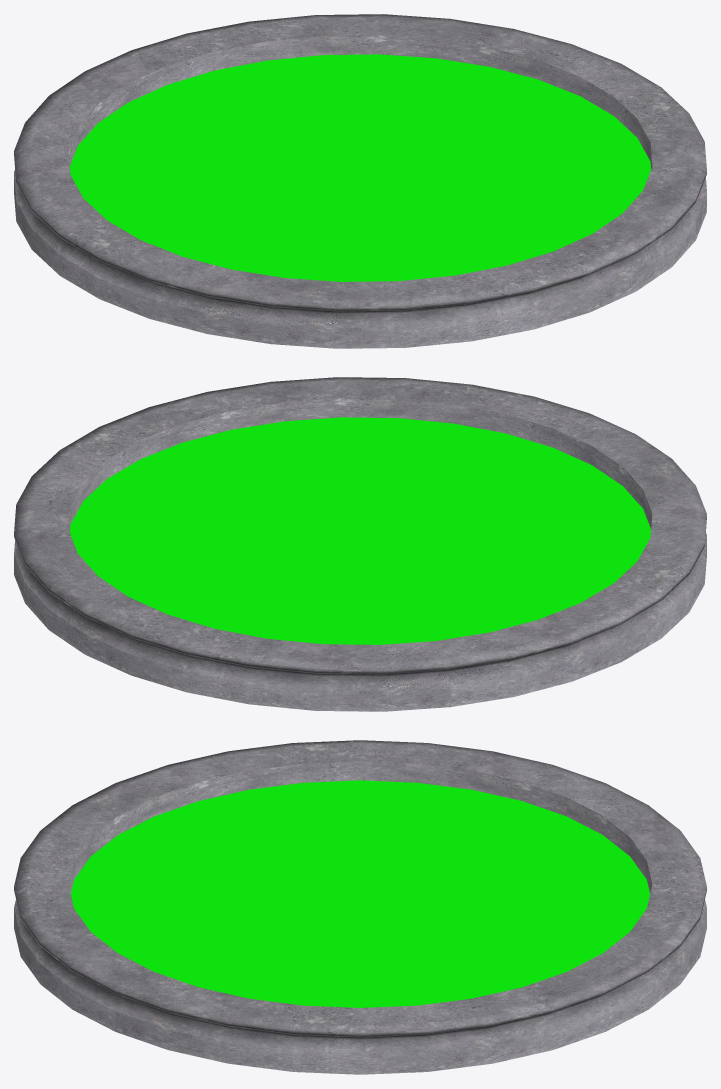
File: WarpGateblend.gltf
The picture shows the model from 3 angles, top to bottom: view 1: azimuth 30°, elevation 25°; view 2: azimuth 150°, elevation 25°; view 3: azimuth 270°, elevation 25°; orthographic projection.
Visible parts, largest first — view 1: Pool; view 2: Pool; view 3: Pool.
Part boxes in pixels (bbox=[...]): Pool: bbox=[14, 14, 706, 348]; Pool: bbox=[14, 377, 706, 711]; Pool: bbox=[14, 740, 706, 1074].
Size of the model in its own units: 7.46 by 0.5198 by 7.46.
2 materials, 1 textured.
